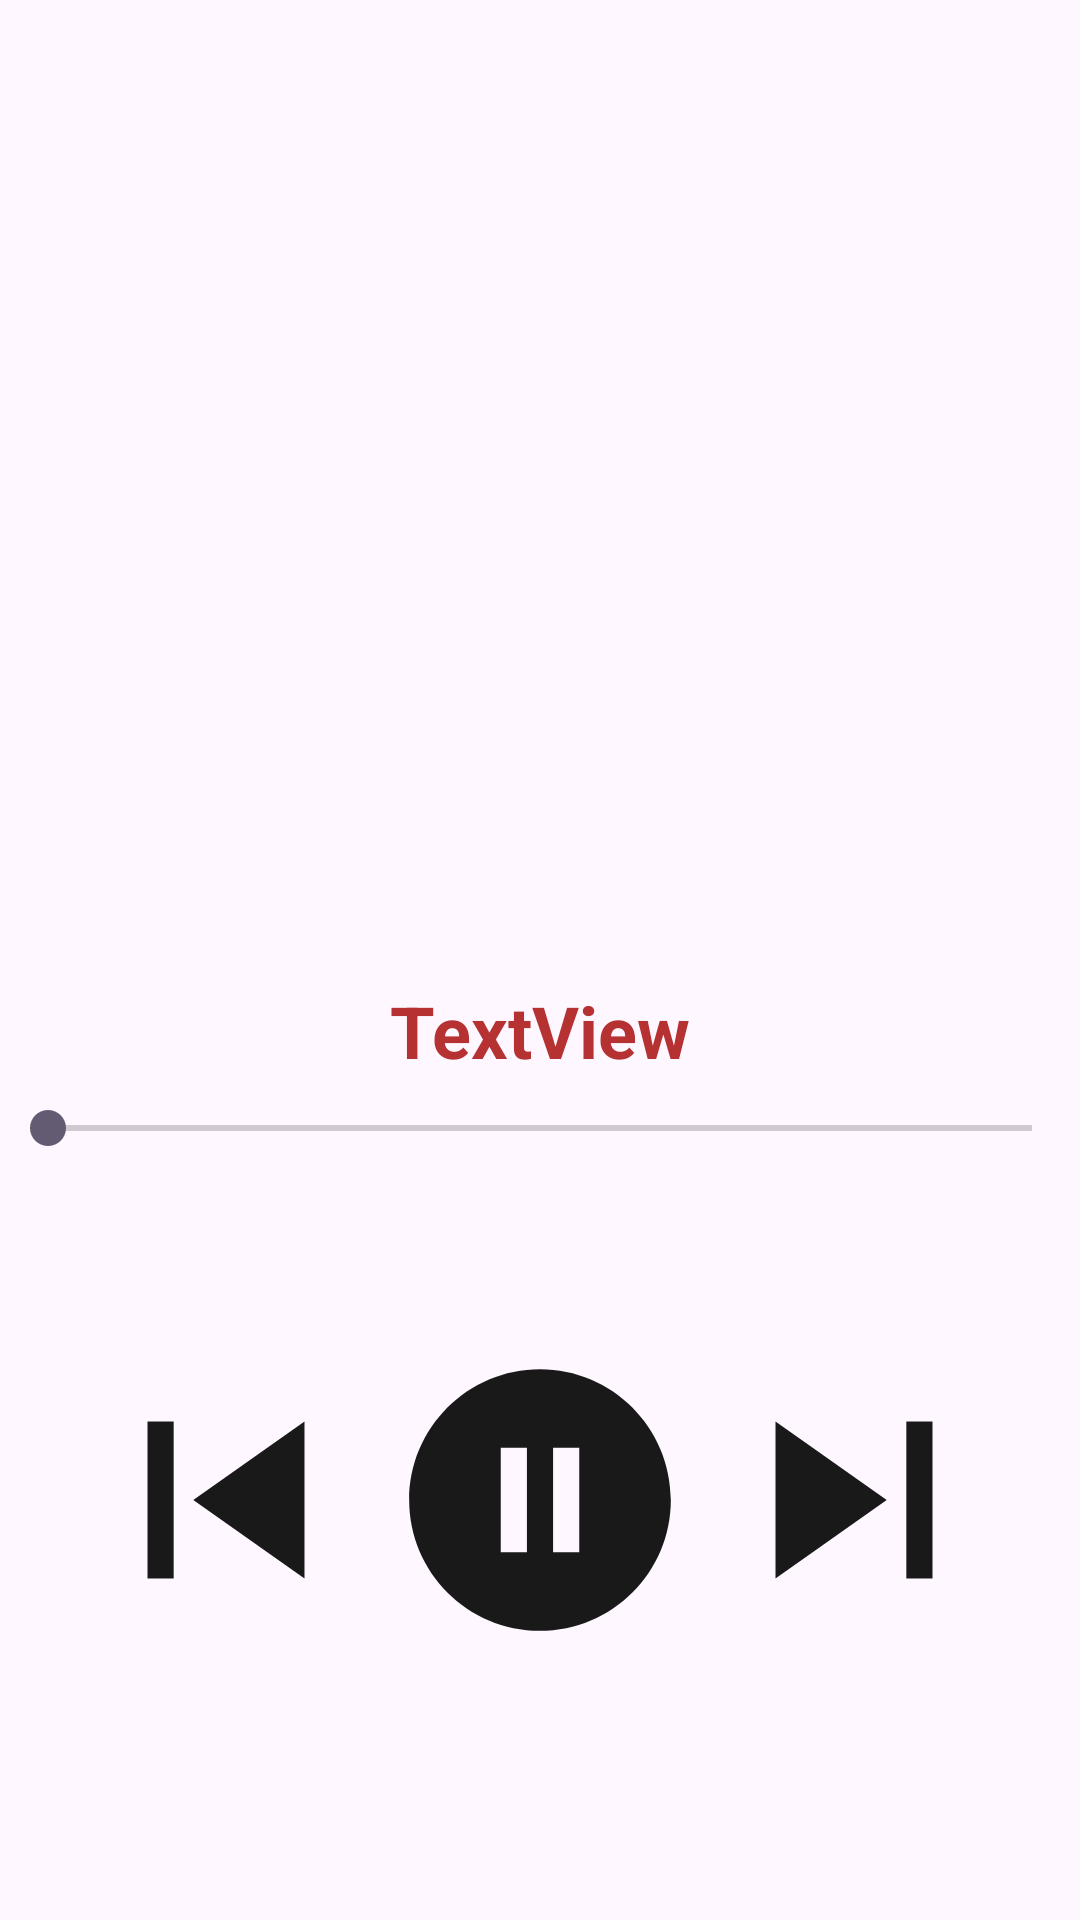

Icon bounding boxes for this 1080px×1920px phone screenshot, format (x1, y1, x2, y2):
next: (775, 1421, 933, 1579)
prev: (147, 1421, 305, 1579)
